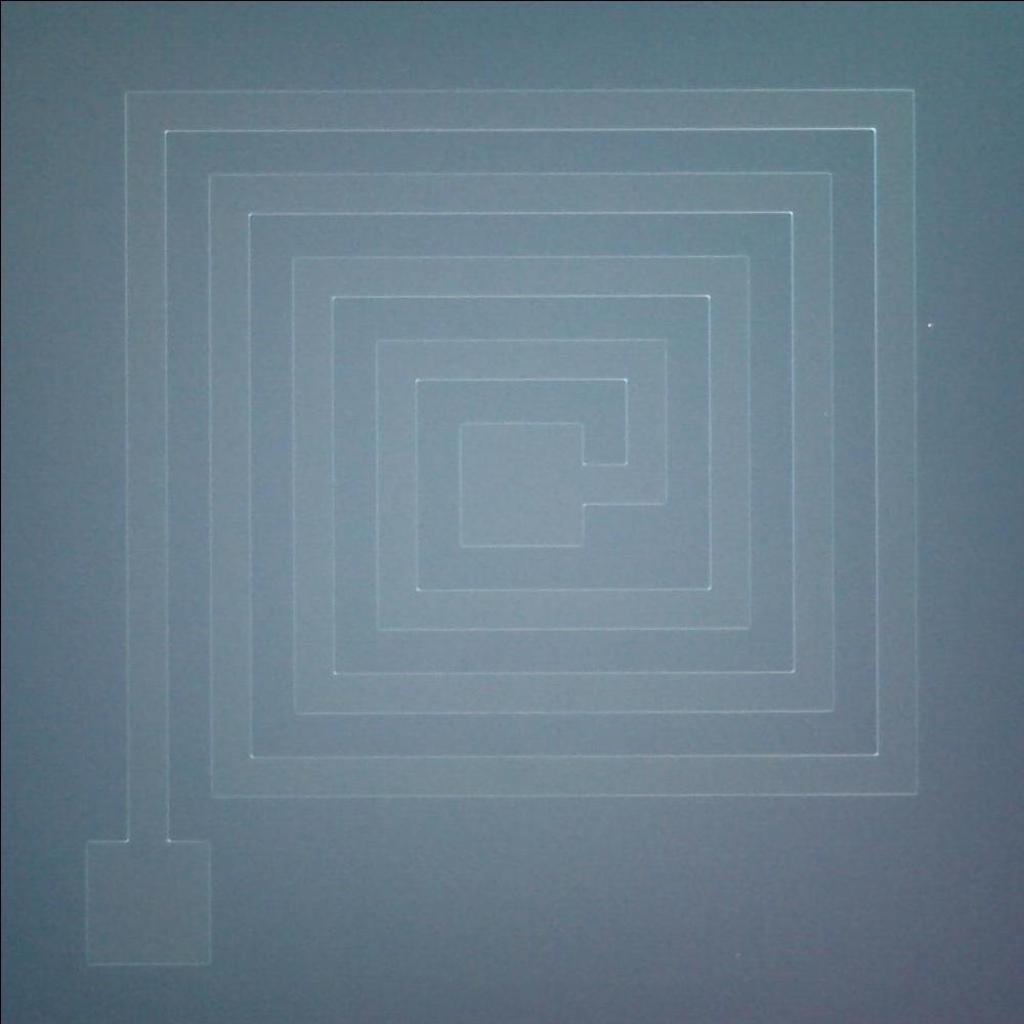dot: (915, 312, 944, 337)
